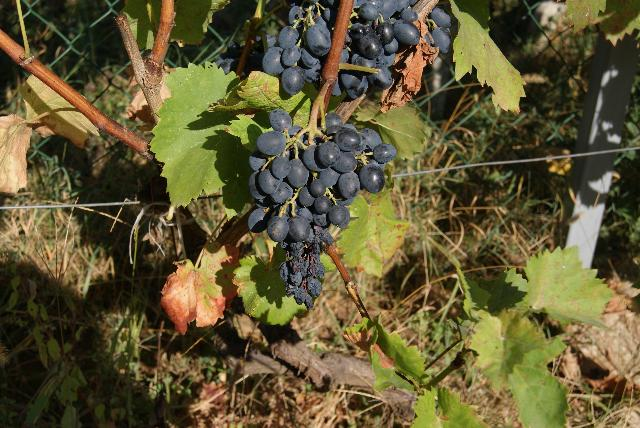grapes: (249, 110, 396, 310), (261, 0, 421, 99)
